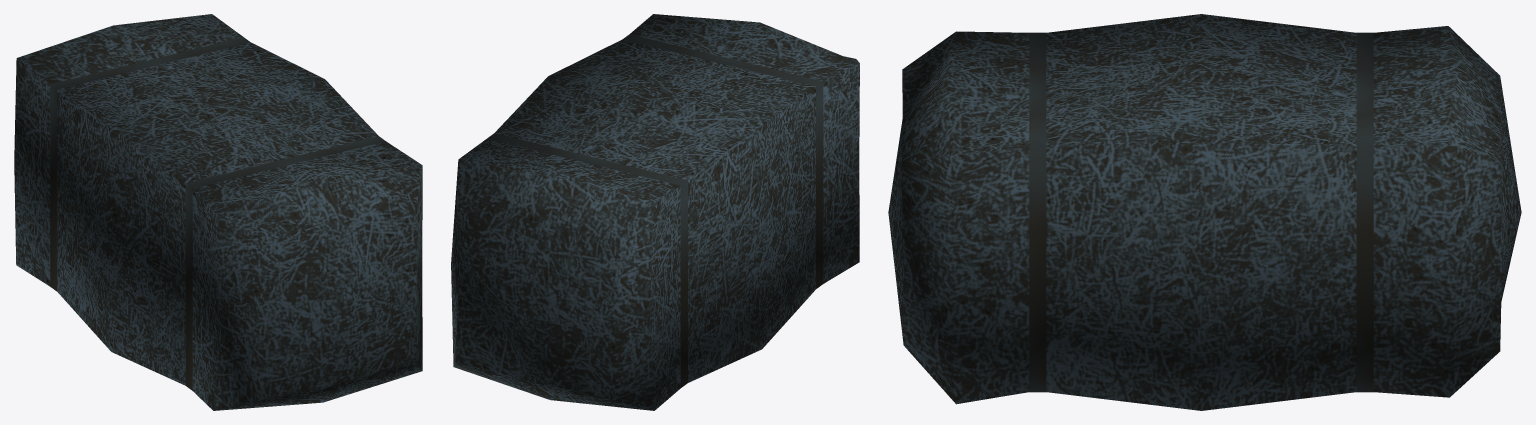
Rendered from Haybale_small.fbx.
3 renders of one model, left to right at view 1: azimuth 30°, elevation 25°; view 2: azimuth 150°, elevation 25°; view 3: azimuth 270°, elevation 25°, orthographic. The views are drawn at different scales.
Visible parts, largest first — view 1: hay1; view 2: hay1; view 3: hay1.
Part boxes in pixels (box(x1,y1,x2,y2)): hay1: box(14, 14, 422, 410); hay1: box(451, 14, 859, 410); hay1: box(888, 14, 1521, 410).
Bounding box in the file's own units: 0.8187 × 0.7914 × 1.59.
Materials: 1 (1 with a texture image).
